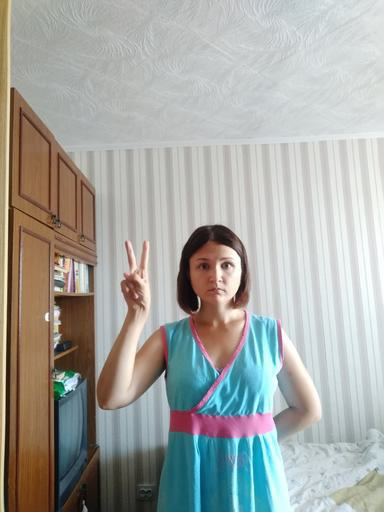peace: (118, 238, 154, 316)
